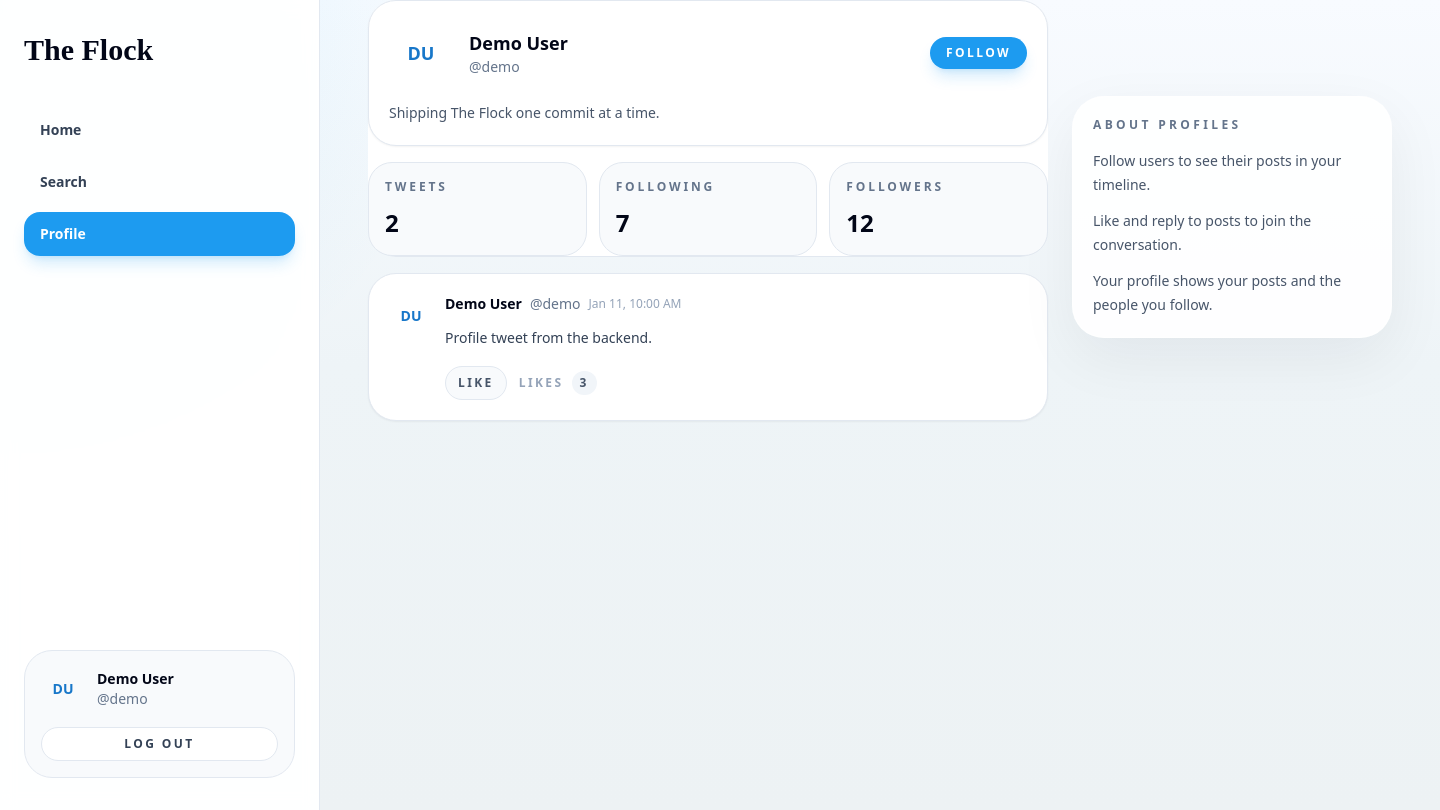
Follow list pages › profile counters navigate to the correct page
Click the link "Followers 12". click: [939, 209]
box: [829, 162, 1048, 256]
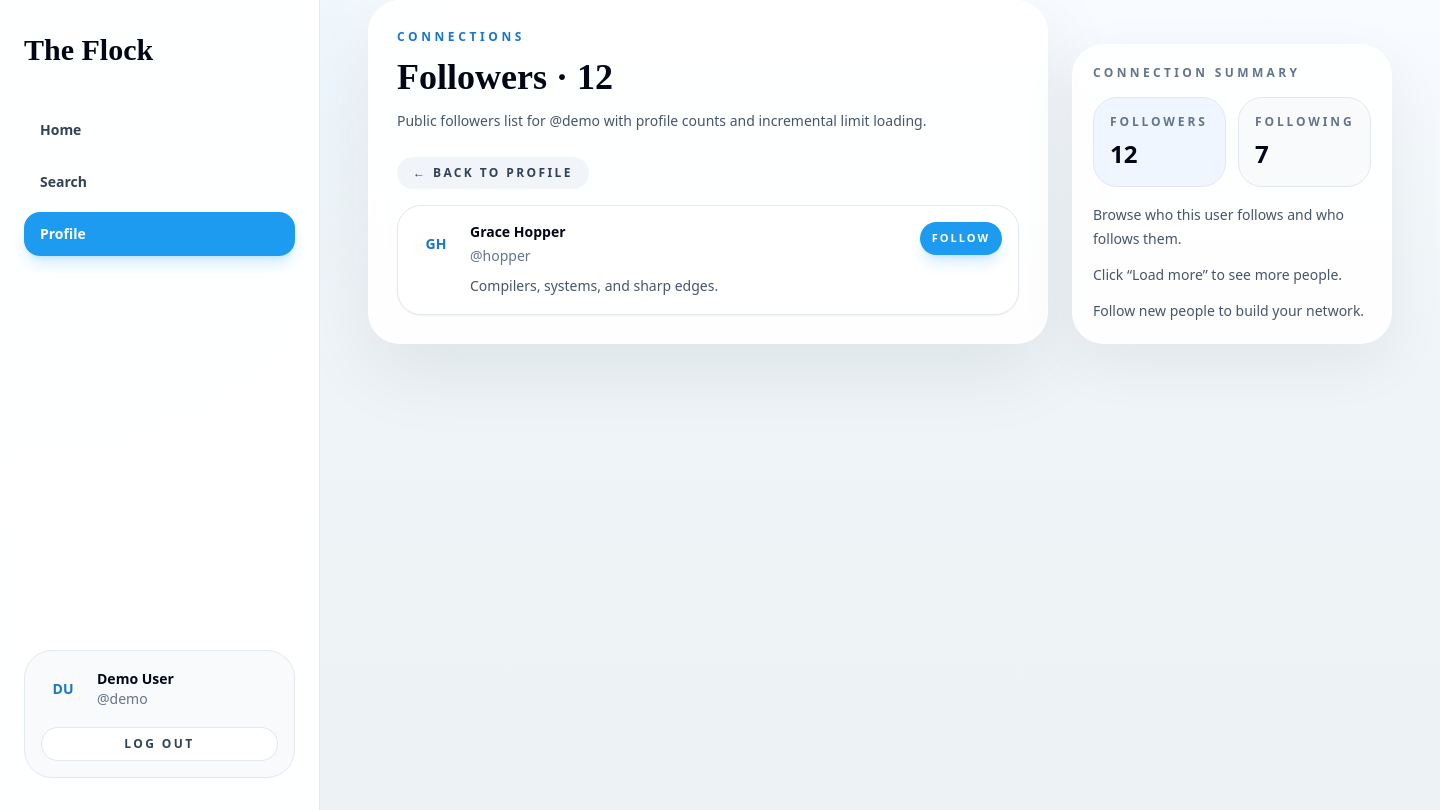
Result: the text "Grace Hopper" is shown at [470, 222, 566, 241]
Result: the heading "Followers · 12" is shown at [397, 57, 613, 97]
